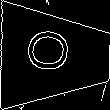O_E: (30, 34, 80, 78)
